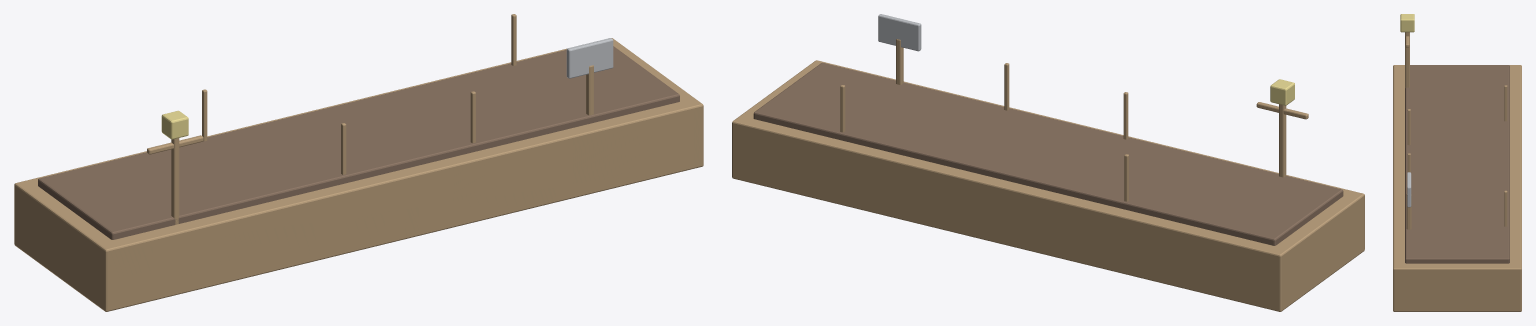
Rendered from грядка1.glb.
3 renders of one model, left to right at view 1: azimuth 30°, elevation 25°; view 2: azimuth 150°, elevation 25°; view 3: azimuth 270°, elevation 25°, orthographic. The views are drawn at different scales.
Parts seen in each view (by area): view 1: грядка; view 2: грядка; view 3: грядка.
Boxes of the visible parts, box(x1,y1,x2,y2) form: грядка: box(14, 14, 703, 311); грядка: box(732, 14, 1364, 311); грядка: box(1393, 14, 1521, 311).
Bounding box in the file's own units: 6 × 1.63 × 1.6.
